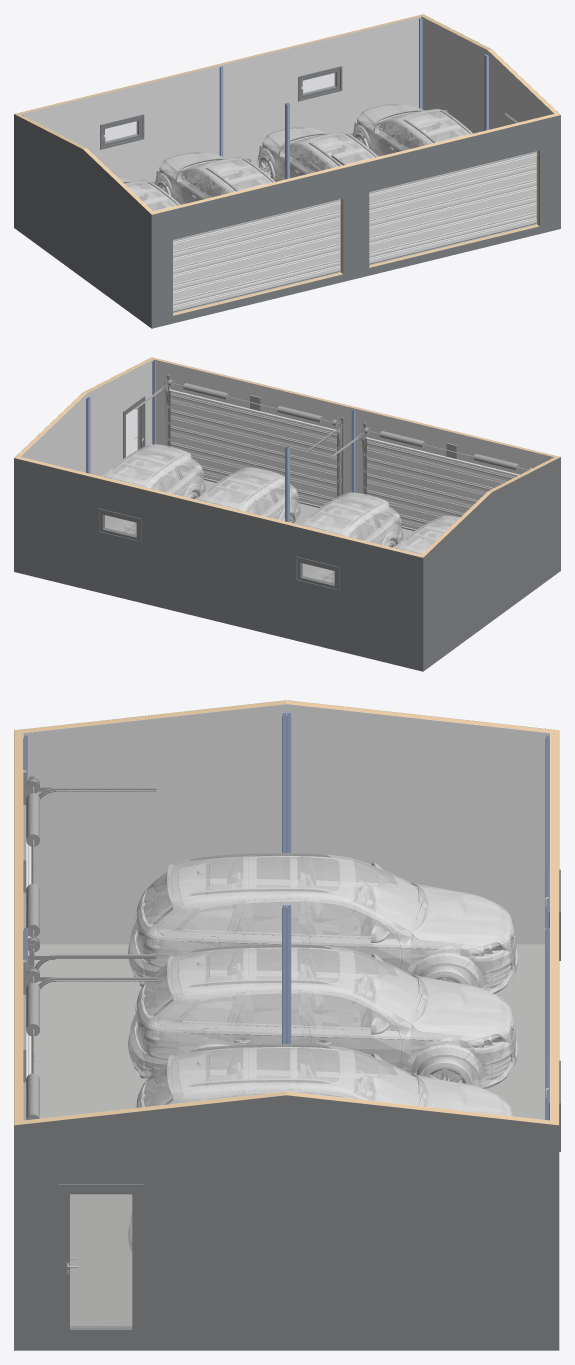
File: justas@sollus.fbx
3 views of the same model, one above another, from view 1: azimuth 30°, elevation 25°; view 2: azimuth 150°, elevation 25°; view 3: azimuth 270°, elevation 25° (orthographic). The views are drawn at different scales.
Parts seen in each view (by area): view 1: IfcWall/Part:2319982, IfcWall/Part:2532695, IfcWall/Part:2532692, IfcDoor/Garažo vartai:Garažo durys:2562506, IfcDoor/Garažo vartai:Garažo durys:2563088, IfcFurnishingElement/Audi+Q7+-+Change+color+bimshares.com (. (×2), IfcWall/Part:2319979, IfcFurnishingElement/Audi+Q7+-+Change+color+bimshares.com (, IfcWall/Part:2532696, IfcWindow/Langai (Akrusta):1200x600x120:2566037, IfcWindow/Langai (Akrusta):1200x600x120:2566236, IfcFurnishingElement/Audi+Q7+-+Change+color+bimshares.com (2 (+5 smaller); view 2: IfcWall/Part:2319983, IfcWall/Part:2532692, IfcDoor/Garažo vartai:Garažo durys:2562506, IfcWall/Part:2532694, IfcDoor/Garažo vartai:Garažo durys:2563088, IfcFurnishingElement/Audi+Q7+-+Change+color+bimshares.com (. (×2), IfcWall/Part:2319979, IfcFurnishingElement/Audi+Q7+-+Change+color+bimshares.com (, IfcWall/Part:2319984, IfcWindow/Langai (Akrusta):1200x600x120:2566037, IfcWindow/Langai (Akrusta):1200x600x120:2566236, IfcFurnishingElement/Audi+Q7+-+Change+color+bimshares.com (2 (+6 smaller); view 3: IfcWall/Part:2319980, IfcWall/Part:2532691, IfcFurnishingElement/Audi+Q7+-+Change+color+bimshares.com (, IfcFurnishingElement/Audi+Q7+-+Change+color+bimshares.com (2, IfcSlab/Part:2319985, IfcFurnishingElement/Audi+Q7+-+Change+color+bimshares.com (., IfcDoor/Durys išorinės:1000x2100x120 (dešininės):2528033, IfcDoor/Garažo vartai:Garažo durys:2563088, IfcWall/Part:2319984, IfcWall/Part:2532696, IfcDoor/Garažo vartai:Garažo durys:2562506, IfcWall/Part:2532693 (+5 smaller).
Boxes of the visible parts, x1,y1,x2,y2 form: IfcWall/Part:2319982: (21,16,421,181); IfcWall/Part:2532695: (152,115,560,328); IfcWall/Part:2532692: (14,114,151,328); IfcDoor/Garažo vartai:Garažo durys:2562506: (331,113,537,264); IfcDoor/Garažo vartai:Garažo durys:2563088: (173,161,340,312); IfcFurnishingElement/Audi+Q7+-+Change+color+bimshares.com (. (×2): (257,103,472,181); IfcWall/Part:2319979: (421,16,554,133); IfcFurnishingElement/Audi+Q7+-+Change+color+bimshares.com (: (155,152,275,204); IfcWall/Part:2532696: (154,114,556,315); IfcWindow/Langai (Akrusta):1200x600x120:2566037: (298,66,342,101); IfcWindow/Langai (Akrusta):1200x600x120:2566236: (100,114,144,149); IfcFurnishingElement/Audi+Q7+-+Change+color+bimshares.com (2: (117,176,180,211); IfcWall/Part:2319983: (14,458,423,671); IfcWall/Part:2532692: (423,457,560,671); IfcDoor/Garažo vartai:Garažo durys:2562506: (135,374,344,507); IfcWall/Part:2532694: (153,359,553,496); IfcDoor/Garažo vartai:Garažo durys:2563088: (331,422,538,530); IfcFurnishingElement/Audi+Q7+-+Change+color+bimshares.com (. (×2): (102,444,300,534); IfcWall/Part:2319979: (20,359,153,476); IfcFurnishingElement/Audi+Q7+-+Change+color+bimshares.com (: (299,492,403,583); IfcWall/Part:2319984: (14,456,424,557); IfcWindow/Langai (Akrusta):1200x600x120:2566037: (97,508,141,543); IfcWindow/Langai (Akrusta):1200x600x120:2566236: (295,556,339,591); IfcFurnishingElement/Audi+Q7+-+Change+color+bimshares.com (2: (394,515,459,554); IfcWall/Part:2319980: (14,1095,558,1350); IfcWall/Part:2532691: (23,704,549,944); IfcFurnishingElement/Audi+Q7+-+Change+color+bimshares.com (: (128,944,517,1088); IfcFurnishingElement/Audi+Q7+-+Change+color+bimshares.com (2: (128,852,517,993); IfcSlab/Part:2319985: (34,944,545,1325); IfcFurnishingElement/Audi+Q7+-+Change+color+bimshares.com (.: (135,1044,512,1116); IfcDoor/Durys išorinės:1000x2100x120 (dešininės):2528033: (58,1184,143,1336); IfcDoor/Garažo vartai:Garažo durys:2563088: (23,770,156,1062); IfcWall/Part:2319984: (550,729,558,1125); IfcWall/Part:2532696: (14,733,22,1121); IfcDoor/Garažo vartai:Garažo durys:2562506: (23,959,156,1120); IfcWall/Part:2532693: (14,700,550,733).
Bounding box in the file's own units: 1207 × 362 × 702.
